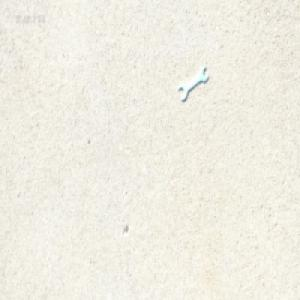Wrench: (180, 67, 208, 102)
